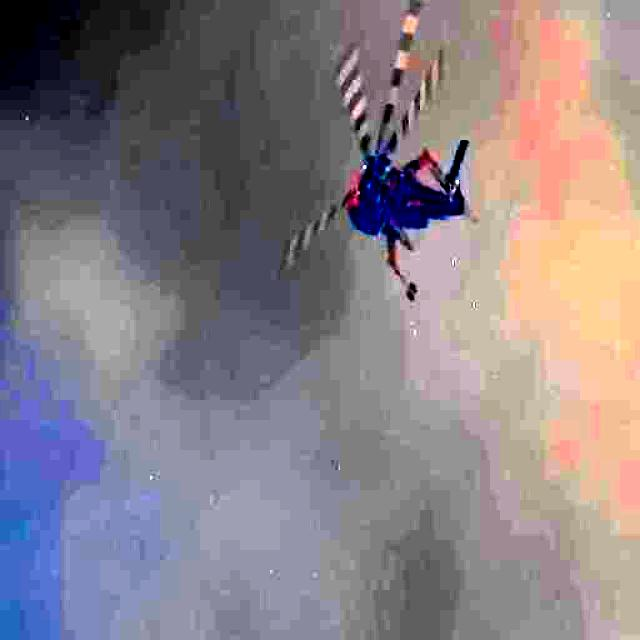drone: (318, 0, 495, 282)
